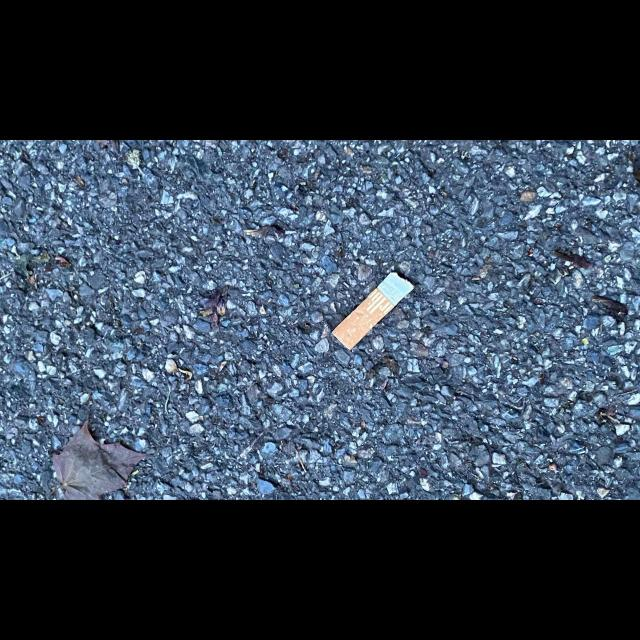cigarette: (331, 270, 415, 351)
